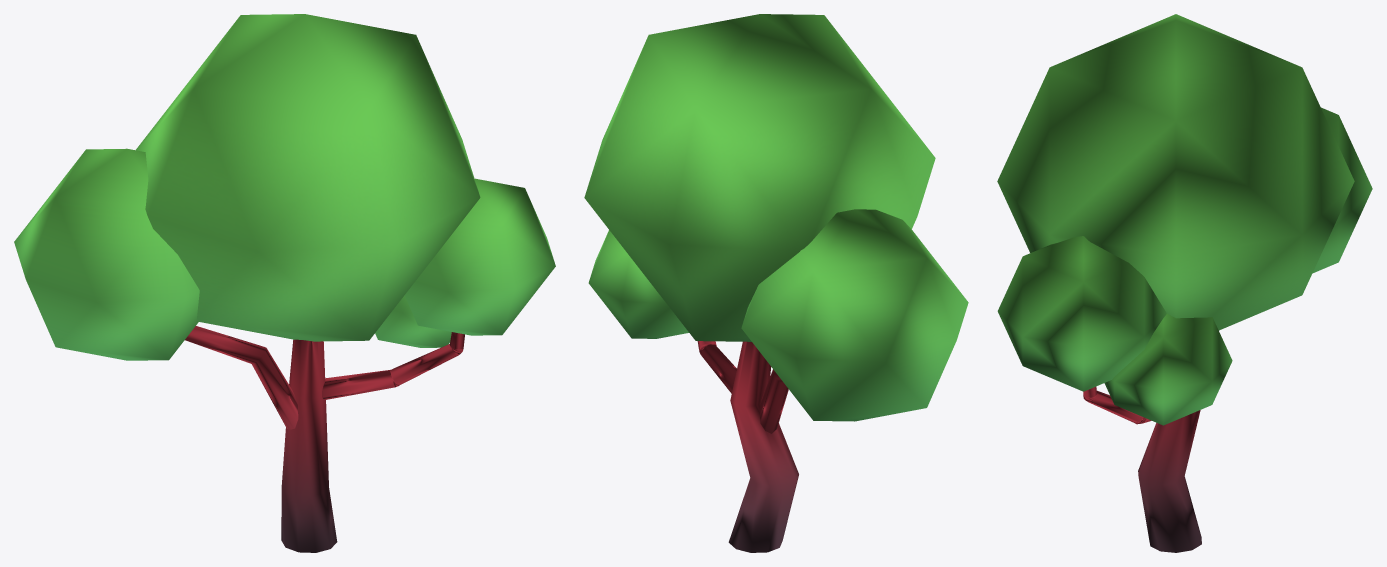
Rendered from tree_round_2.glb.
The picture shows the model from 3 angles, left to right: view 1: azimuth 30°, elevation 25°; view 2: azimuth 150°, elevation 25°; view 3: azimuth 270°, elevation 25°; orthographic projection.
Parts seen in each view (by area): view 1: tree_round_2; view 2: tree_round_2; view 3: tree_round_2.
Boxes of the visible parts, box(x1,y1,x2,y2) form: tree_round_2: box(14, 14, 555, 552); tree_round_2: box(584, 14, 968, 552); tree_round_2: box(997, 14, 1372, 552).
Bounding box in the file's own units: 4.29 × 5 × 3.27.
1 material, 1 textured.
